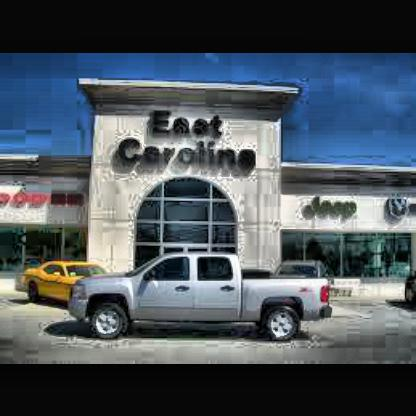Chevrolet Silverado 1500 Hybrid Crew Cab 2012: (74, 255, 334, 348)
